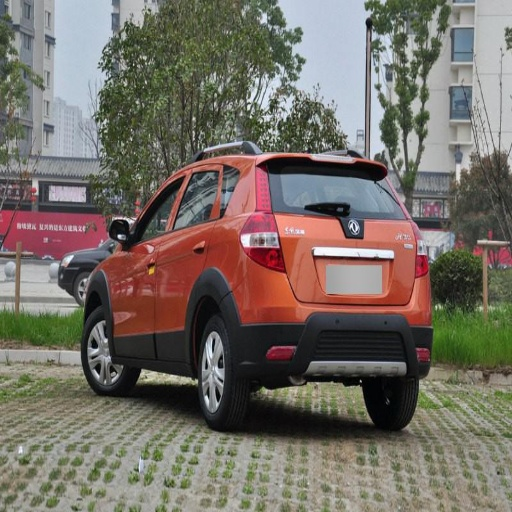back_bumper: (232, 261, 431, 371)
back_glass: (259, 159, 390, 211)
back_left_door: (156, 164, 220, 361)
tailgate: (274, 210, 383, 301)
trunk: (279, 211, 416, 301)
